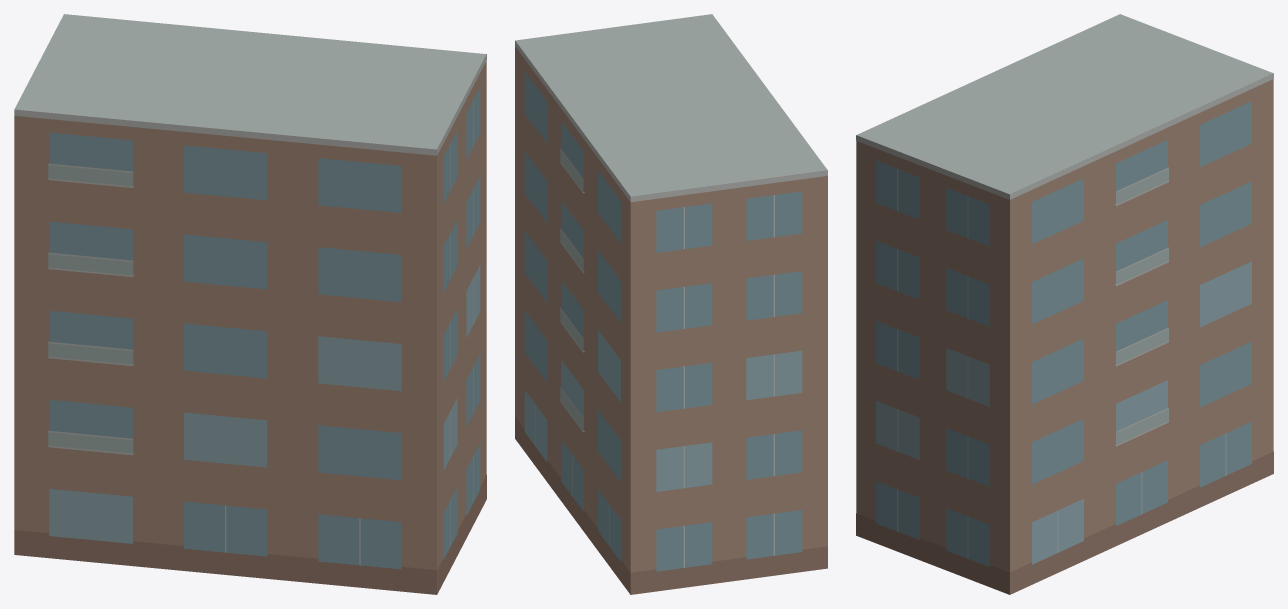
File: survey-upis-32843806.glb
The picture shows the model from 3 angles, left to right: view 1: azimuth 30°, elevation 25°; view 2: azimuth 150°, elevation 25°; view 3: azimuth 270°, elevation 25°; orthographic projection. The views are drawn at different scales.
Visible parts, largest first — view 1: survey-upis-32843806.tmp; view 2: survey-upis-32843806.tmp; view 3: survey-upis-32843806.tmp.
Boxes of the visible parts, <box> form: survey-upis-32843806.tmp: <box>14,14,486,594</box>; survey-upis-32843806.tmp: <box>515,14,827,594</box>; survey-upis-32843806.tmp: <box>856,14,1273,594</box>.
Size of the model in its own units: 16.83 by 17.41 by 16.46.
